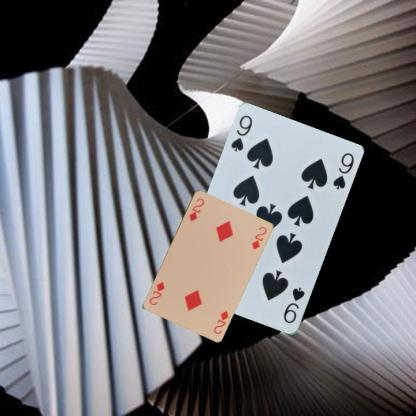2d: (186, 196, 205, 223), (211, 308, 230, 335)
9s: (228, 113, 254, 153), (281, 285, 306, 325)
